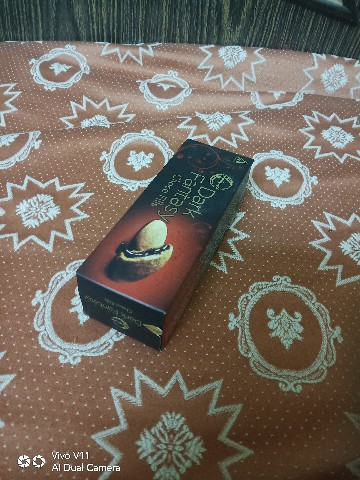darkfantasy big: (59, 103, 263, 356)
